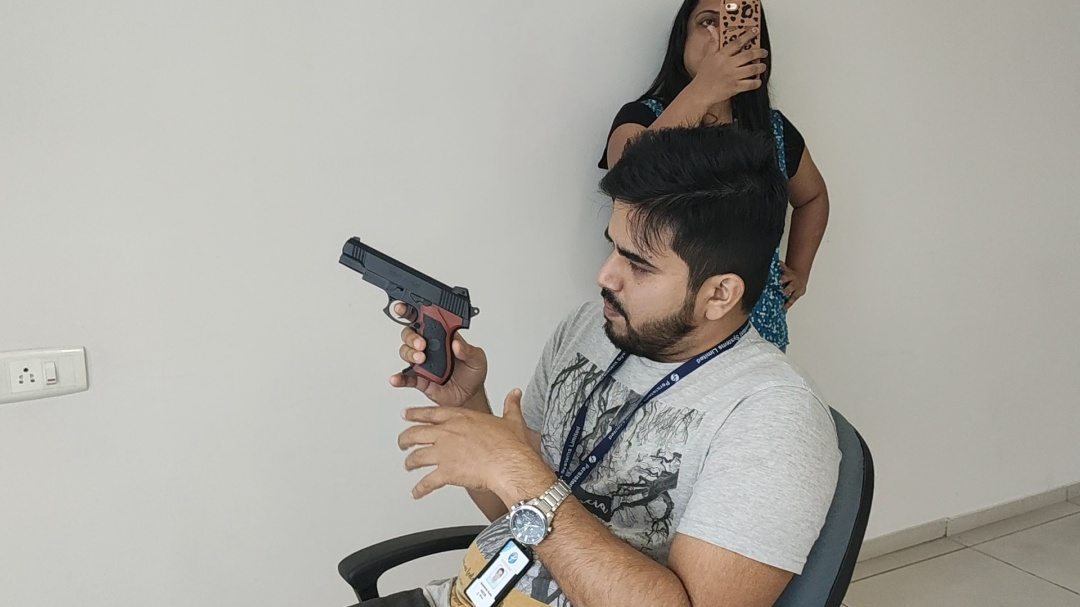gun: (338, 235, 480, 387)
